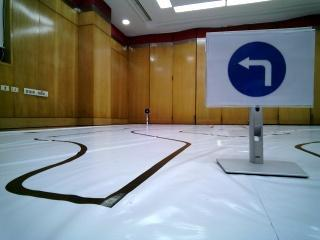left: (208, 32, 309, 104)
